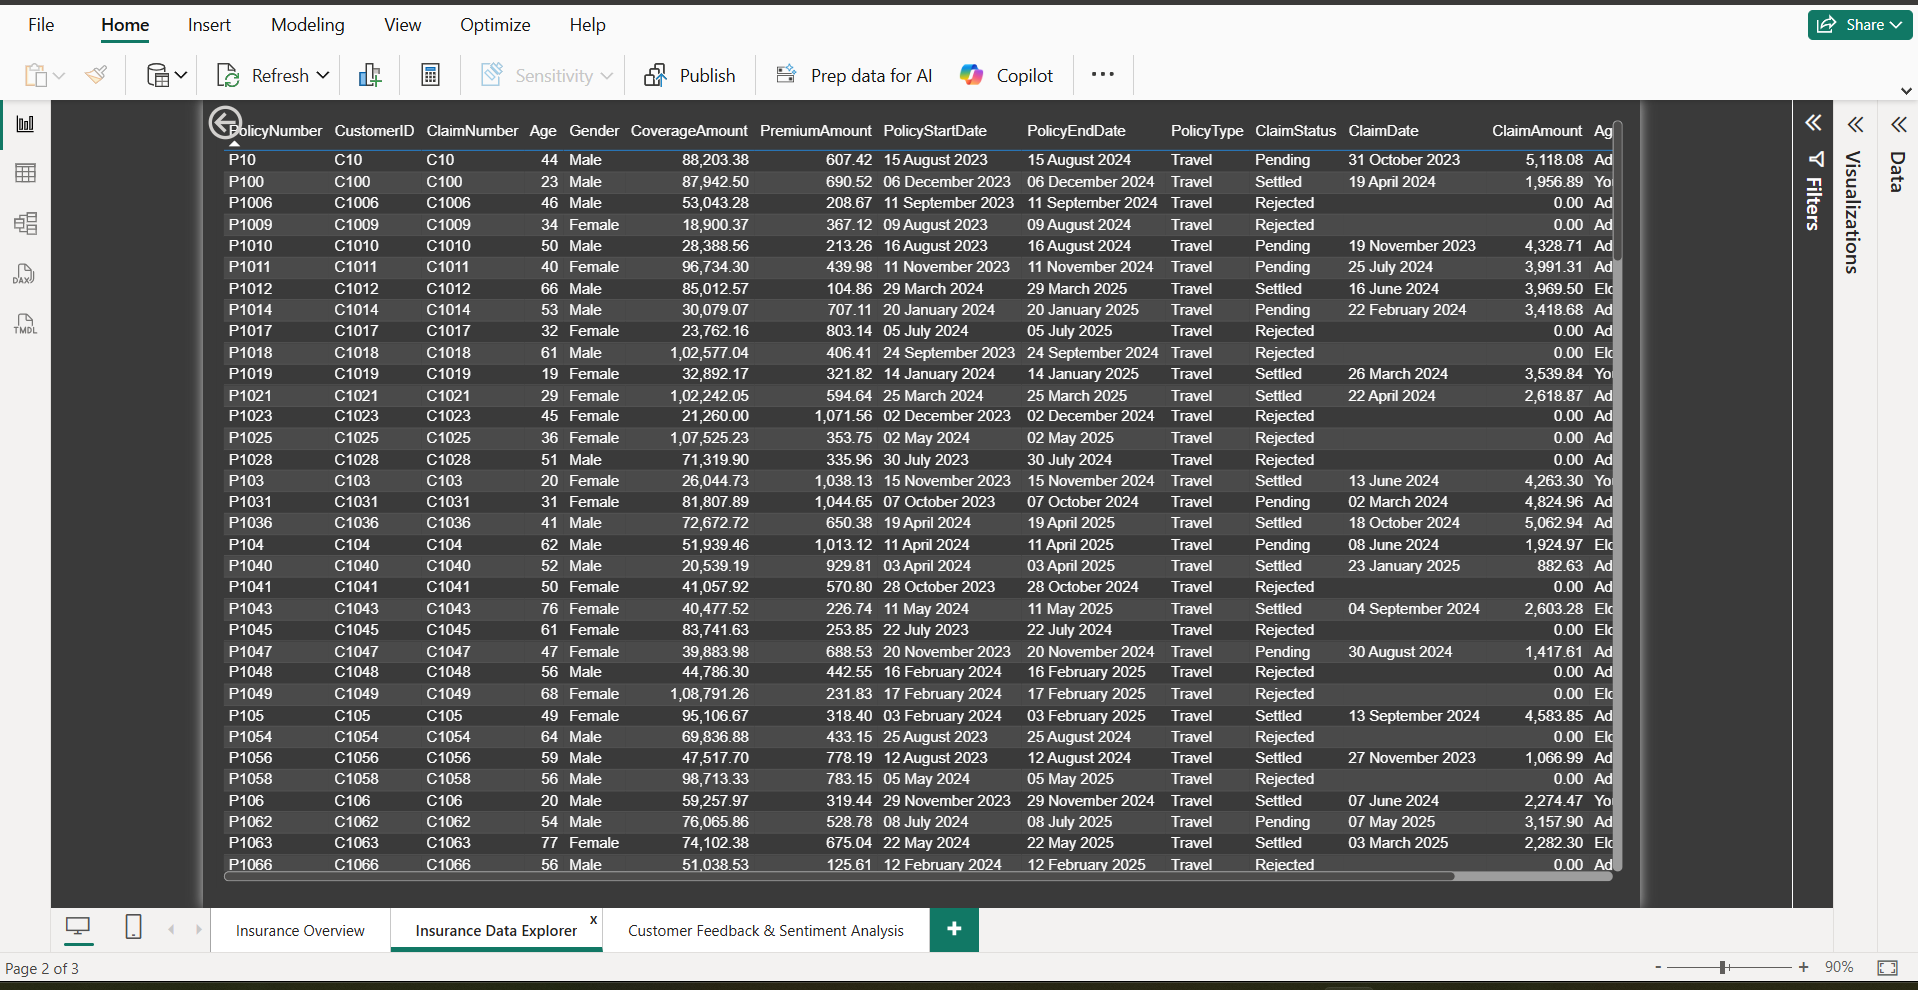

This screenshot's page, from the dashboard's own definition file:
{"tool":"powerbi","page":{"name":"Insurance Data Explorer","canvas":[1280,720],"ordinal":1},"visuals":[{"type":"tableEx","fields":{"Values":["InsuranceData.PolicyNumber","InsuranceData.CustomerID","InsuranceData.ClaimNumber","InsuranceData.Age","InsuranceData.Gender","InsuranceData.CoverageAmount","InsuranceData.PremiumAmount","InsuranceData.PolicyStartDate","InsuranceData.PolicyEndDate","InsuranceData.PolicyType","InsuranceData.ClaimStatus","InsuranceData.ClaimDate"]},"box":[12.1,13.3,1257.1,687.7],"z":0},{"type":"actionButton","box":[0,0,100,40],"z":1000}]}

Visuals, with their boxes on the page's 1280x720 design canvas (x1, y1, x2, y2). These are canvas units, not pixel positions in the 1918x990 screenshot, which may show the page scaled, cropped or inside an application window:
tableEx - InsuranceData.PolicyNumber x InsuranceData.CustomerID: 12 13 1269 701
actionButton: 0 0 100 40
